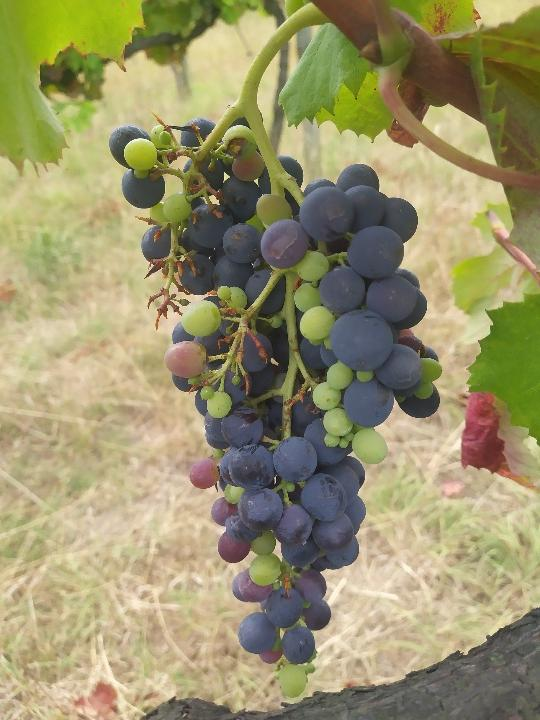grape: (107, 118, 446, 703)
